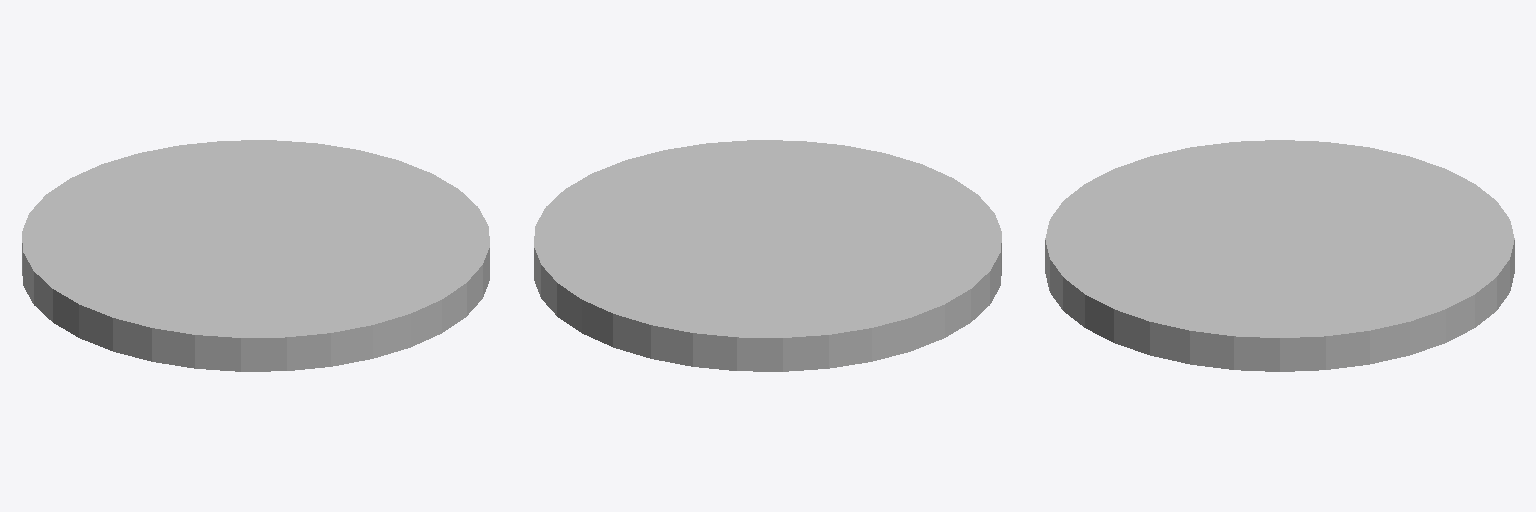
The picture shows the model from 3 angles: view 1: azimuth 30°, elevation 25°; view 2: azimuth 150°, elevation 25°; view 3: azimuth 270°, elevation 25°; orthographic projection.
Parts seen in each view (by area): view 1: Cilindro; view 2: Cilindro; view 3: Cilindro.
Boxes of the visible parts, <box> form: Cilindro: <box>22,140,489,371</box>; Cilindro: <box>534,140,1001,371</box>; Cilindro: <box>1045,140,1514,371</box>.
Bounding box in the file's own units: 3.98 × 0.3159 × 3.98.